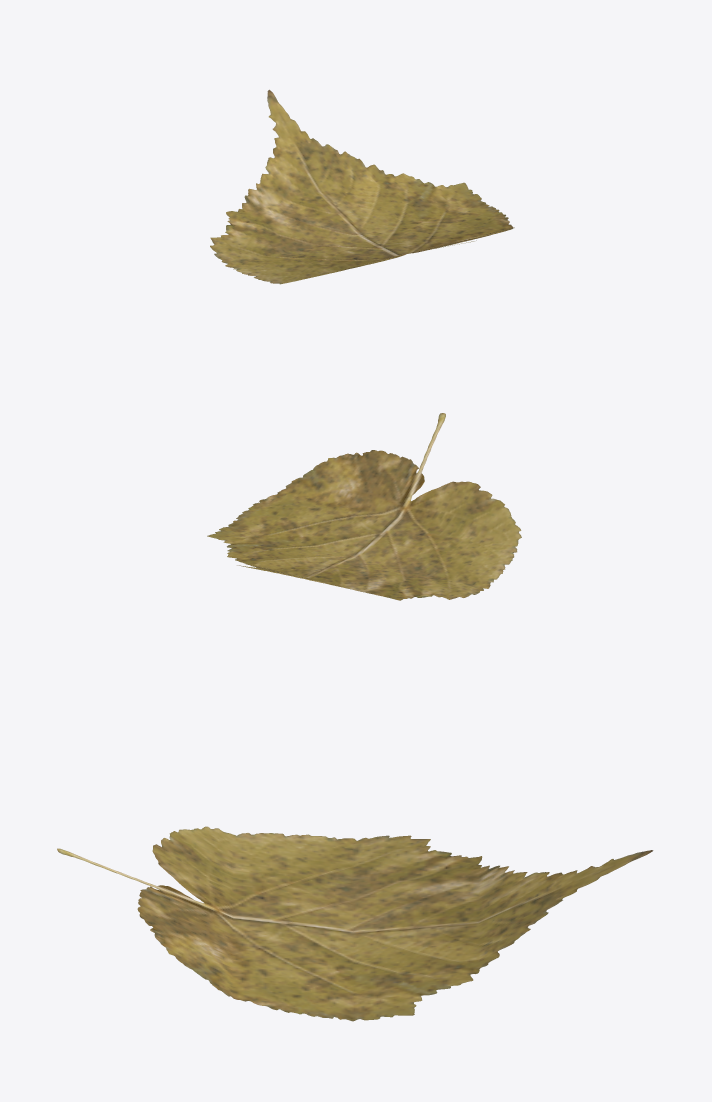
File: Leaf.FBX
3 views of the same model, one above another, from view 1: azimuth 30°, elevation 25°; view 2: azimuth 150°, elevation 25°; view 3: azimuth 270°, elevation 25° (orthographic). The views are drawn at different scales.
Visible parts, largest first — view 1: Leaf; view 2: Leaf; view 3: Leaf.
Part boxes in pixels (x1,y1,x2,y2): Leaf: (210, 89, 514, 284); Leaf: (207, 413, 521, 600); Leaf: (57, 826, 653, 1021).
Bounding box in the file's own units: 10 × 1.67 × 9.22.
